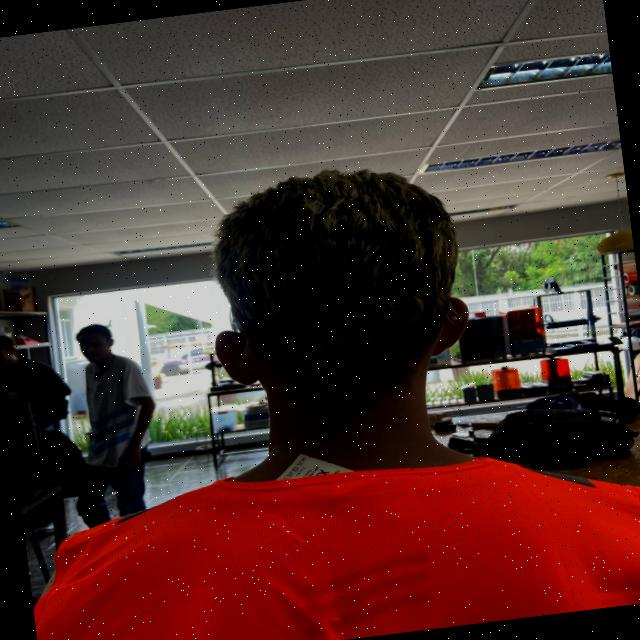COLETE: (32, 458, 640, 640)
SEM LUVA: (118, 447, 140, 467)
